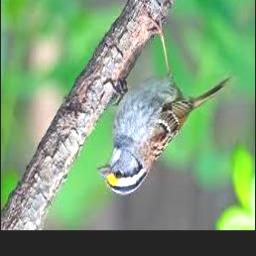Sparrow: (98, 13, 232, 195)
